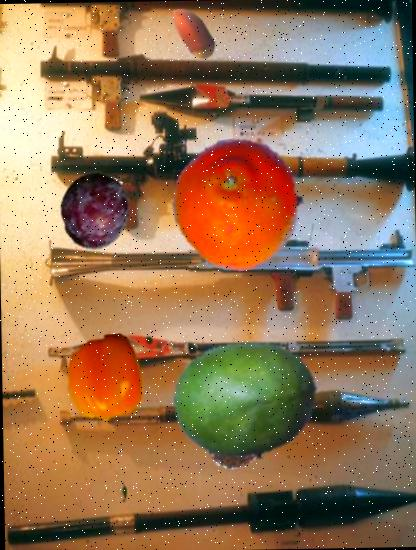Hazelnut: (162, 1, 224, 63)
Mango: (169, 326, 320, 476)
Pepper: (62, 334, 148, 421)
Plum: (54, 171, 134, 250)
Rambutan: (206, 420, 264, 478)
Tangelo: (172, 136, 307, 272)
